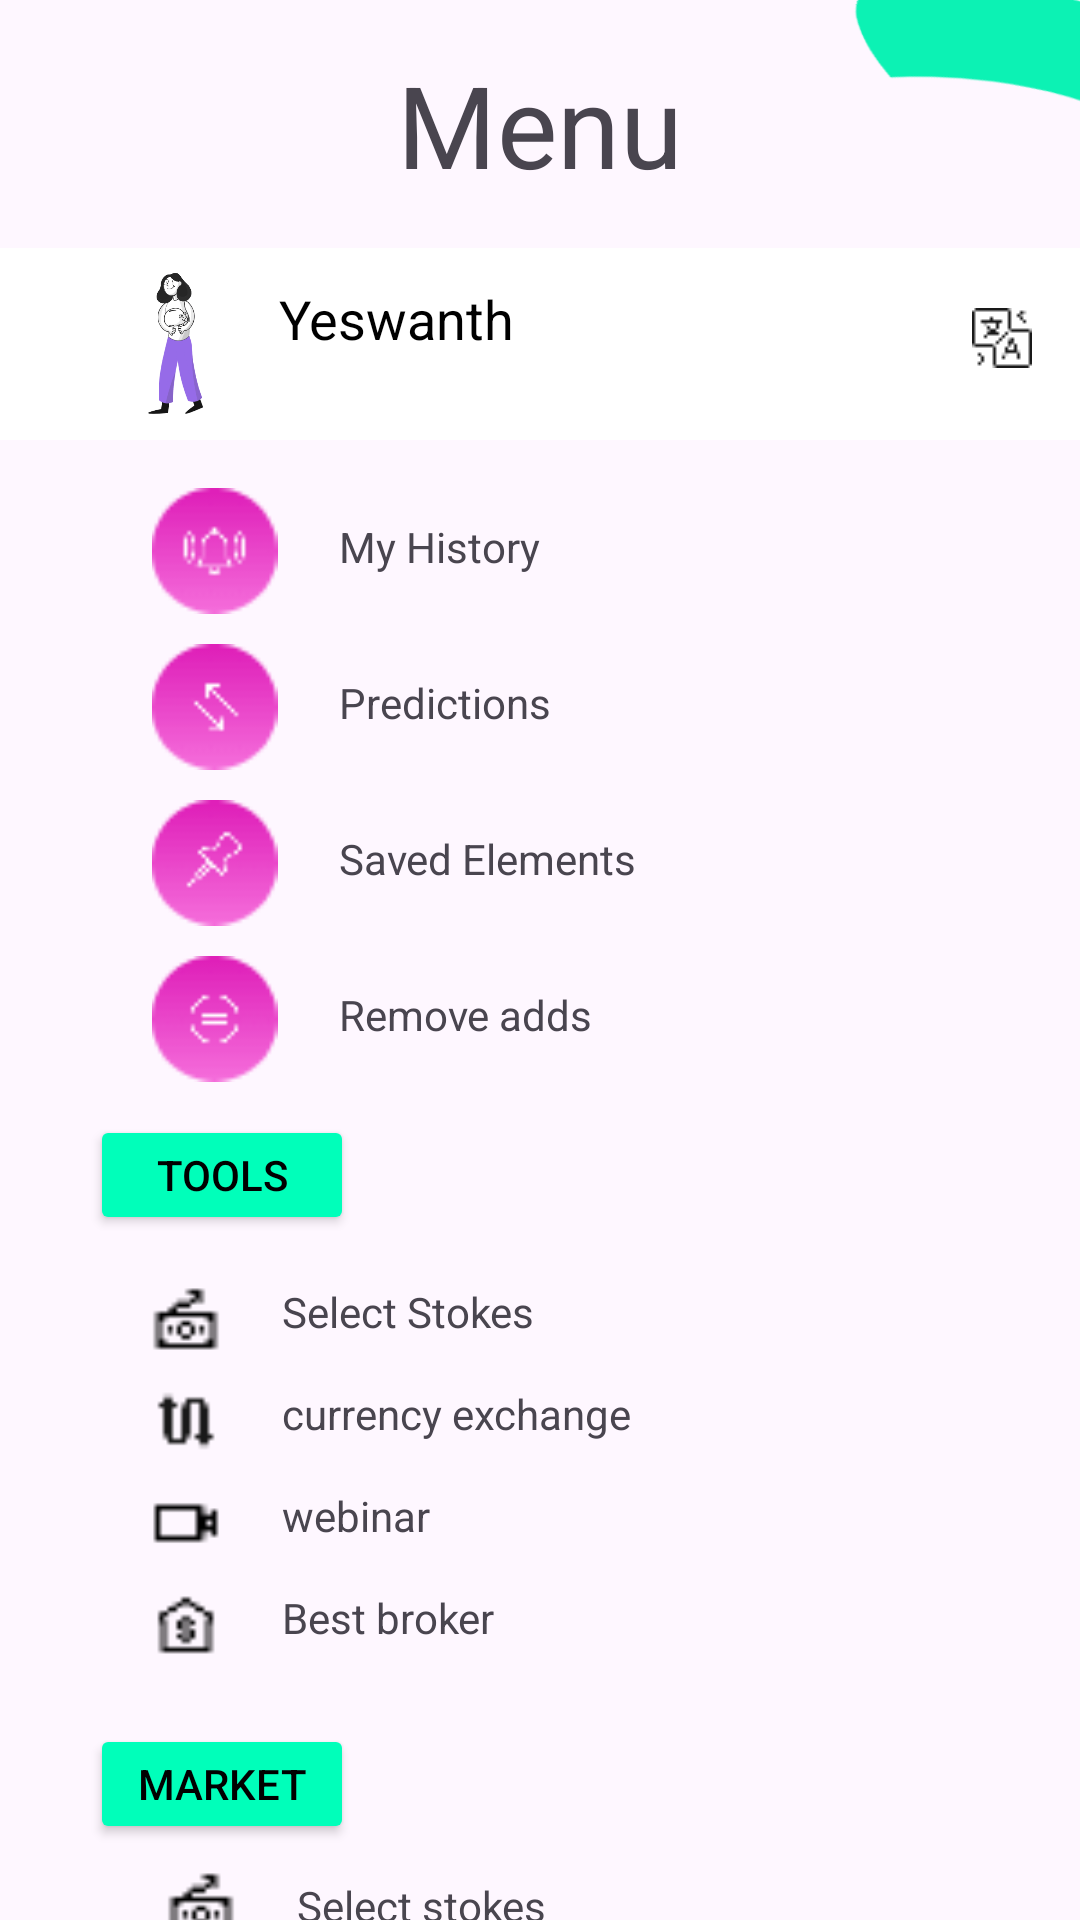

Named icons in this screenshot (1080×1920) and their centers, [x,y]:
alert: [215,551]
girl: [175,343]
swap: [186,1421]
trans: [1002,338]
video: [186,1523]
